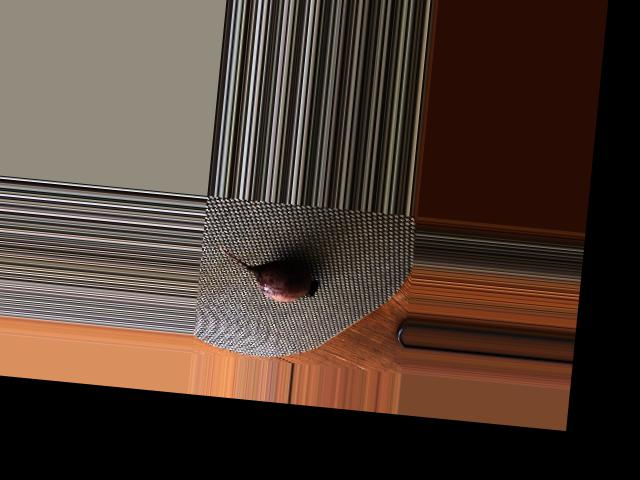beet: (215, 244, 322, 305)
